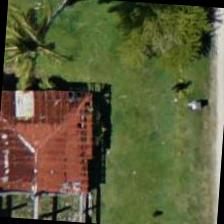Kelapa_Sawit: (2, 0, 80, 89)
